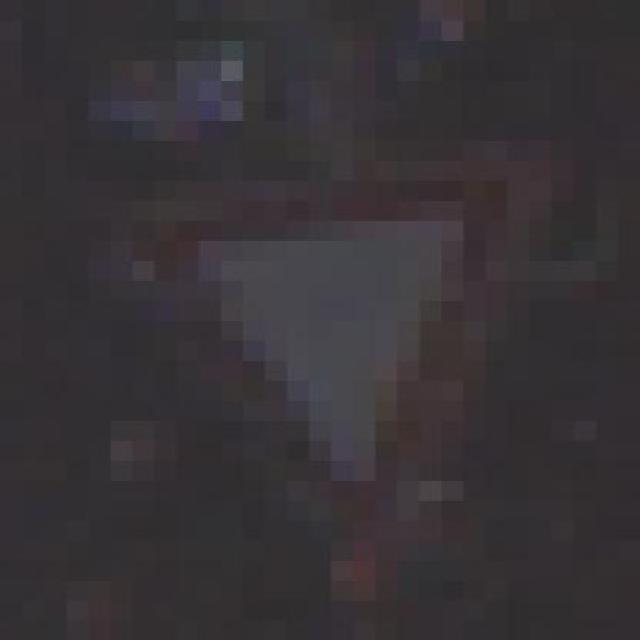Give Way: (106, 131, 592, 591)
